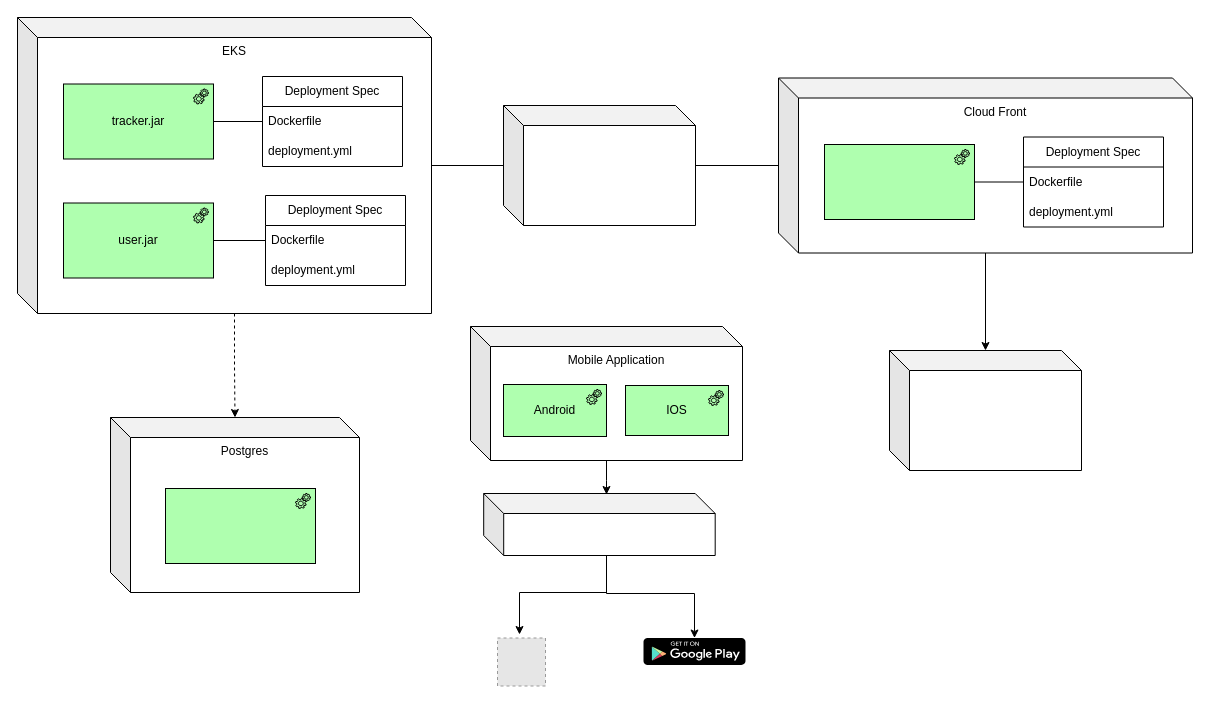
Image size: 1210x704. Some labels were removed from this diagram. Grey dashed boxes stand in for pictures. The shapes that lost their labels are listed below. From the top down, each one's centre as x and y in pixels, then its label:
At pixel 599 165: "Docker Registry ECR".
At pixel 899 182: "UI".
At pixel 985 410: "S3 Buket".
At pixel 240 526: "Schema.sql".
At pixel 599 524: "Jenkins - (Signed IPA and APK file)".
